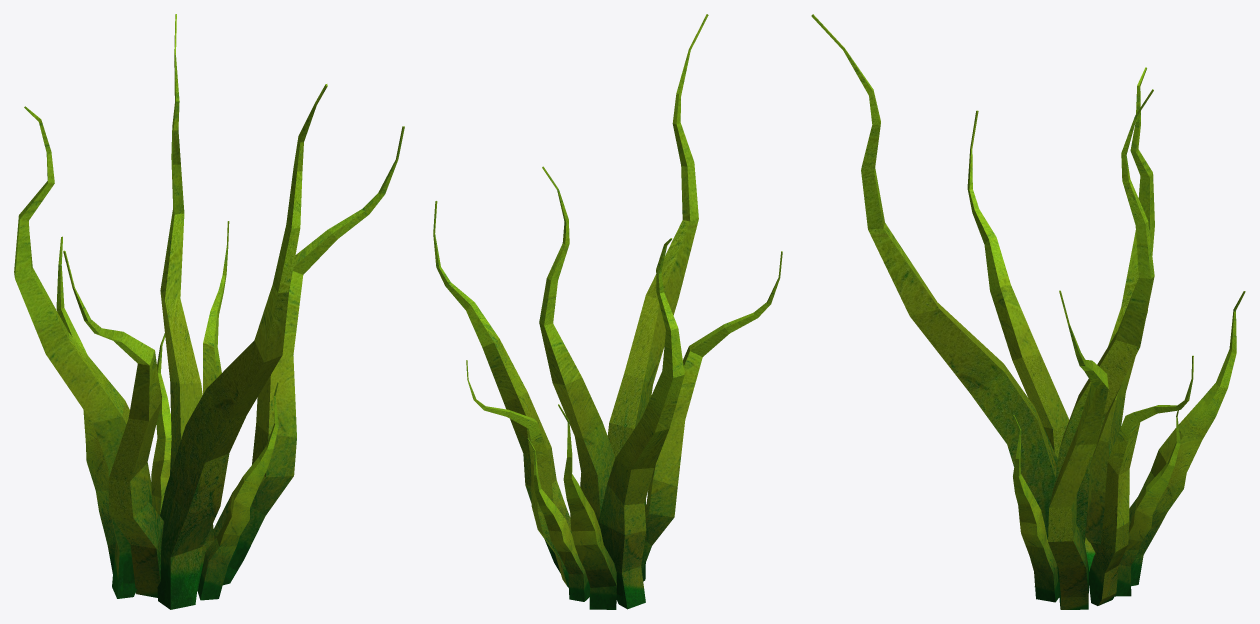
The model's file is Alga.obj.
3 renders of one model, left to right at view 1: azimuth 30°, elevation 25°; view 2: azimuth 150°, elevation 25°; view 3: azimuth 270°, elevation 25°, orthographic. The views are drawn at different scales.
Visible parts, largest first — view 1: Cube.004; view 2: Cube.004; view 3: Cube.004.
Part boxes in pixels (x1,y1,x2,y2): Cube.004: [14, 14, 404, 609]; Cube.004: [433, 14, 782, 609]; Cube.004: [811, 14, 1245, 609].
Size of the model in its own units: 4.84 by 7.26 by 4.91.
